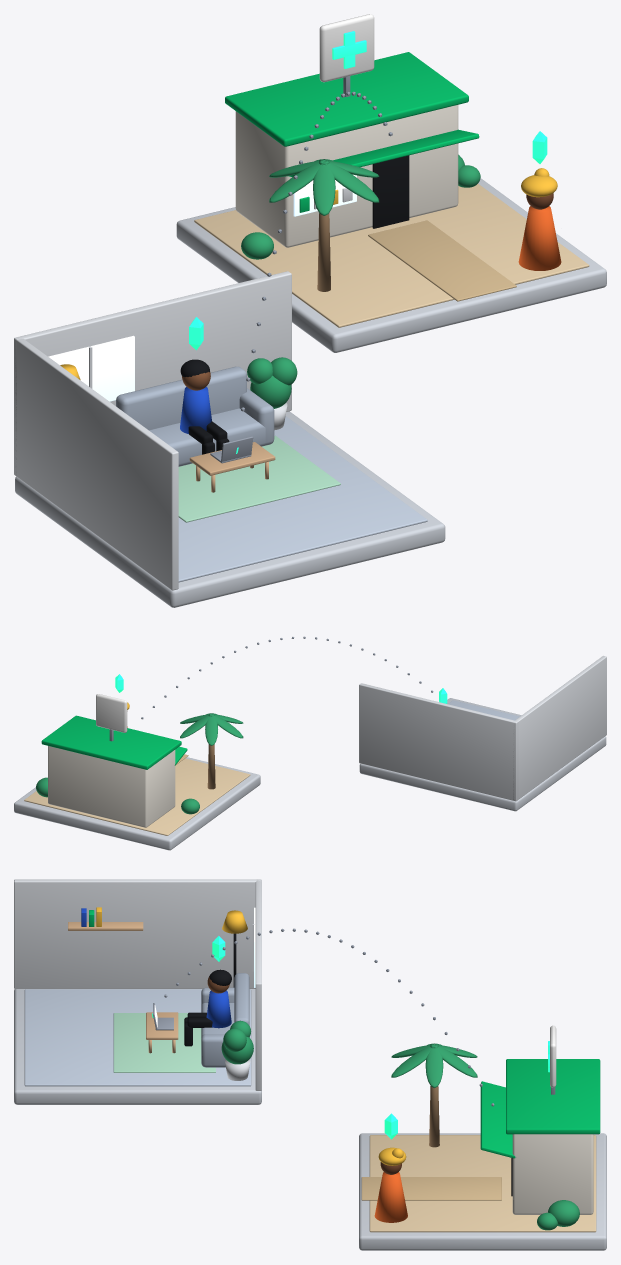
File: homeward.glb
3 renders of one model, top to bottom at view 1: azimuth 30°, elevation 25°; view 2: azimuth 150°, elevation 25°; view 3: azimuth 270°, elevation 25°, orthographic. The views are drawn at different scales.
Parts seen in each view (by area): view 1: us_wall_left, NG_floor, us_wall_back, US_floor, ng_shop, ng_roof, NG_slab, US_slab, us_rug, ng_path, us_sofa_back, us_window (+11 smaller); view 2: us_wall_back, us_wall_left, ng_shop, NG_slab, ng_roof, NG_floor, US_slab, ng_sign_board, US_floor, ng_palm_trunk, ng_palm_leaf.002; view 3: us_wall_left, US_floor, NG_floor, ng_roof, NG_slab, US_slab, ng_shop, us_rug, ng_path, ng_awning, us_wall_back, m_dress (+8 smaller).
Part boxes in pixels (box(x1,y1,x2,y2)): us_wall_left: box(14, 337, 178, 590); NG_floor: box(194, 184, 589, 327); us_wall_back: box(14, 271, 291, 475); US_floor: box(178, 416, 427, 582); ng_shop: box(235, 105, 458, 247); ng_roof: box(225, 52, 468, 146); NG_slab: box(176, 178, 606, 352); US_slab: box(15, 411, 445, 607); us_rug: box(178, 435, 340, 522); ng_path: box(368, 220, 516, 301); us_sofa_back: box(116, 366, 246, 430); us_window: box(48, 335, 134, 401); us_wall_back: box(359, 683, 518, 801); us_wall_left: box(513, 656, 606, 800); ng_shop: box(48, 746, 175, 827); NG_slab: box(14, 757, 260, 850); ng_roof: box(41, 715, 181, 769); NG_floor: box(24, 758, 250, 835); US_slab: box(359, 698, 606, 811); ng_sign_board: box(96, 694, 127, 732); US_floor: box(448, 700, 519, 720); ng_palm_trunk: box(207, 744, 215, 789); ng_palm_leaf.002: box(205, 713, 217, 745); us_wall_left: box(14, 879, 261, 988); US_floor: box(24, 989, 251, 1086); NG_floor: box(369, 1135, 596, 1232); ng_roof: box(506, 1059, 600, 1134); NG_slab: box(359, 1133, 606, 1250); US_slab: box(14, 989, 261, 1104); ng_shop: box(512, 1134, 593, 1214); us_rug: box(113, 1013, 215, 1072); ng_path: box(361, 1177, 501, 1200); ng_awning: box(480, 1081, 515, 1158); us_wall_back: box(255, 879, 261, 1090); m_dress: box(374, 1172, 407, 1222).
Bounding box in the file's own units: 11 × 4.07 × 11.
